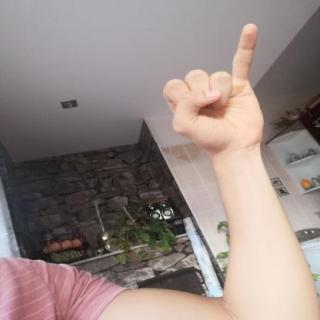MEEM: (152, 17, 273, 162)
